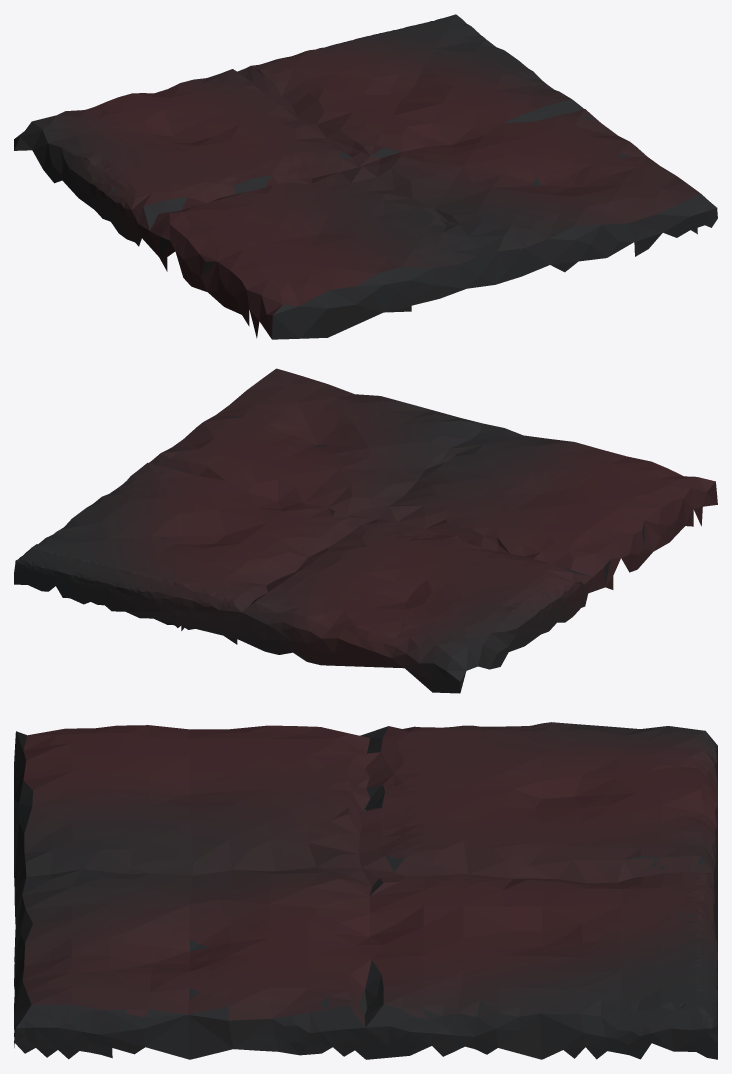
The model's file is dungeon.dae.
3 renders of one model, top to bottom at view 1: azimuth 30°, elevation 25°; view 2: azimuth 150°, elevation 25°; view 3: azimuth 270°, elevation 25°, orthographic. The views are drawn at different scales.
Visible parts, largest first — view 1: Cube; view 2: Cube; view 3: Cube.
Part boxes in pixels (bbox=[...]): Cube: bbox=[14, 14, 717, 339]; Cube: bbox=[14, 368, 717, 693]; Cube: bbox=[14, 722, 717, 1059].
Size of the model in its own units: 2 by 2 by 0.2.
